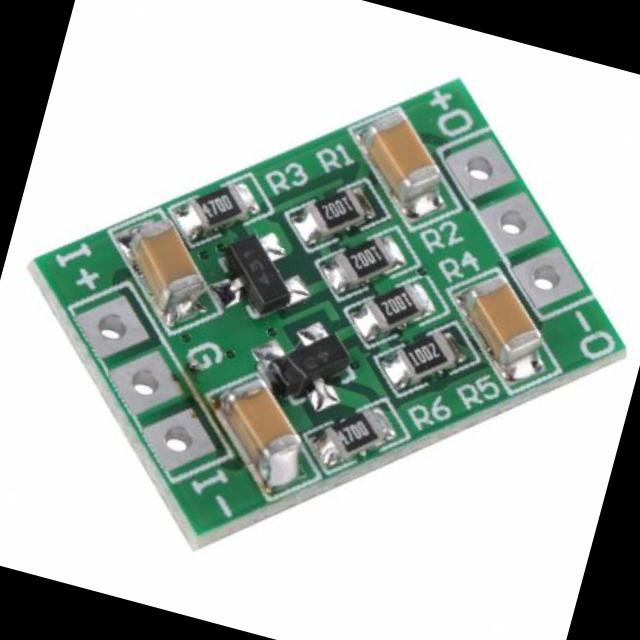capacitor: (200, 361, 310, 479), (110, 212, 217, 328), (442, 253, 549, 364), (354, 108, 446, 202)
resistor: (296, 171, 368, 243), (385, 324, 453, 399), (318, 397, 387, 460), (363, 274, 422, 336), (191, 174, 246, 230), (338, 225, 390, 284)
transistor: (208, 228, 318, 328), (264, 314, 353, 410)
